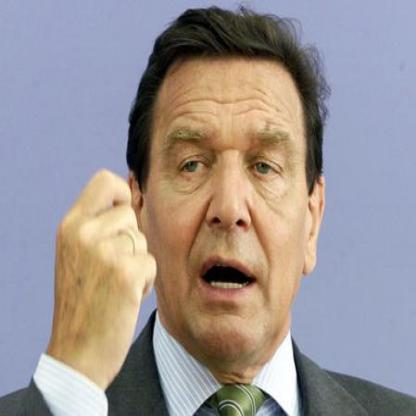face: (145, 20, 313, 365)
